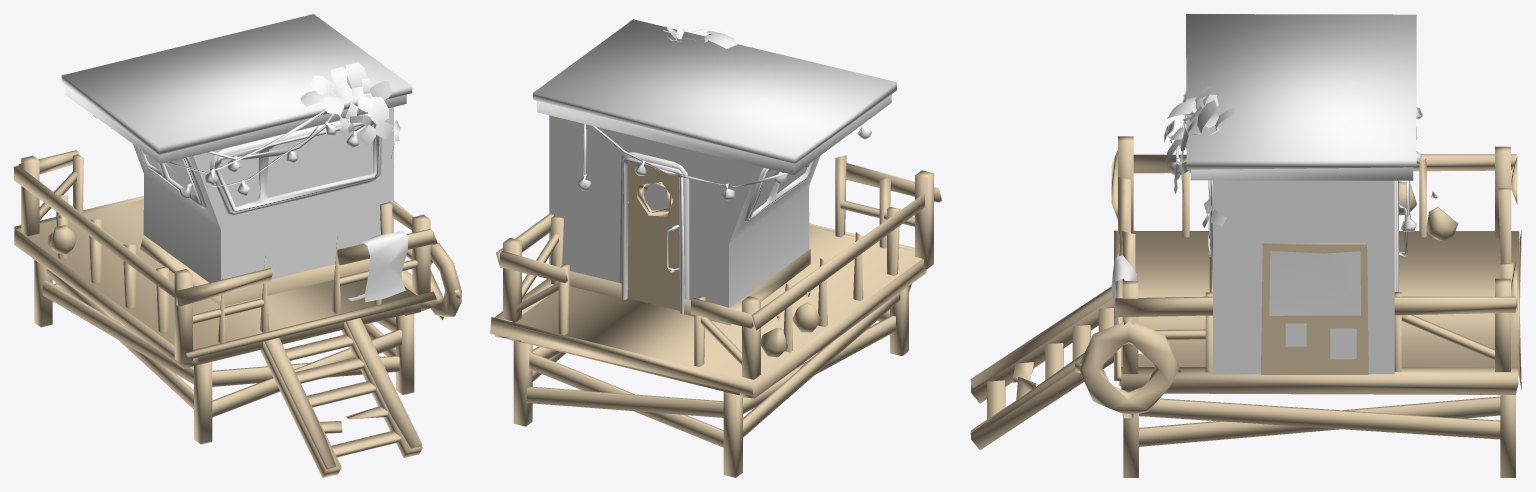
File: lifeguard.glb
3 renders of one model, left to right at view 1: azimuth 30°, elevation 25°; view 2: azimuth 150°, elevation 25°; view 3: azimuth 270°, elevation 25°, orthographic. The views are drawn at different scales.
Visible parts, largest first — view 1: Object_2, Object_3; view 2: Object_3, Object_2; view 3: Object_3, Object_2.
Boxes of the visible parts, x1,y1,x2,y2 form: Object_2: (61,14,412,302); Object_3: (14,150,461,477); Object_3: (490,155,941,477); Object_2: (533,19,896,313); Object_3: (970,136,1521,477); Object_2: (1111,14,1422,374).
Size of the model in its own units: 0.5224 by 0.555 by 0.7589.
